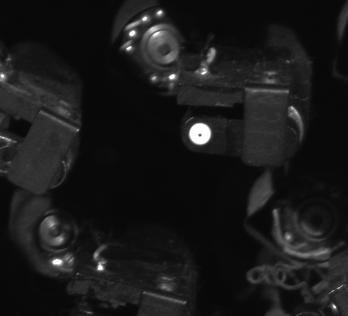fiber: (184, 119, 216, 150)
